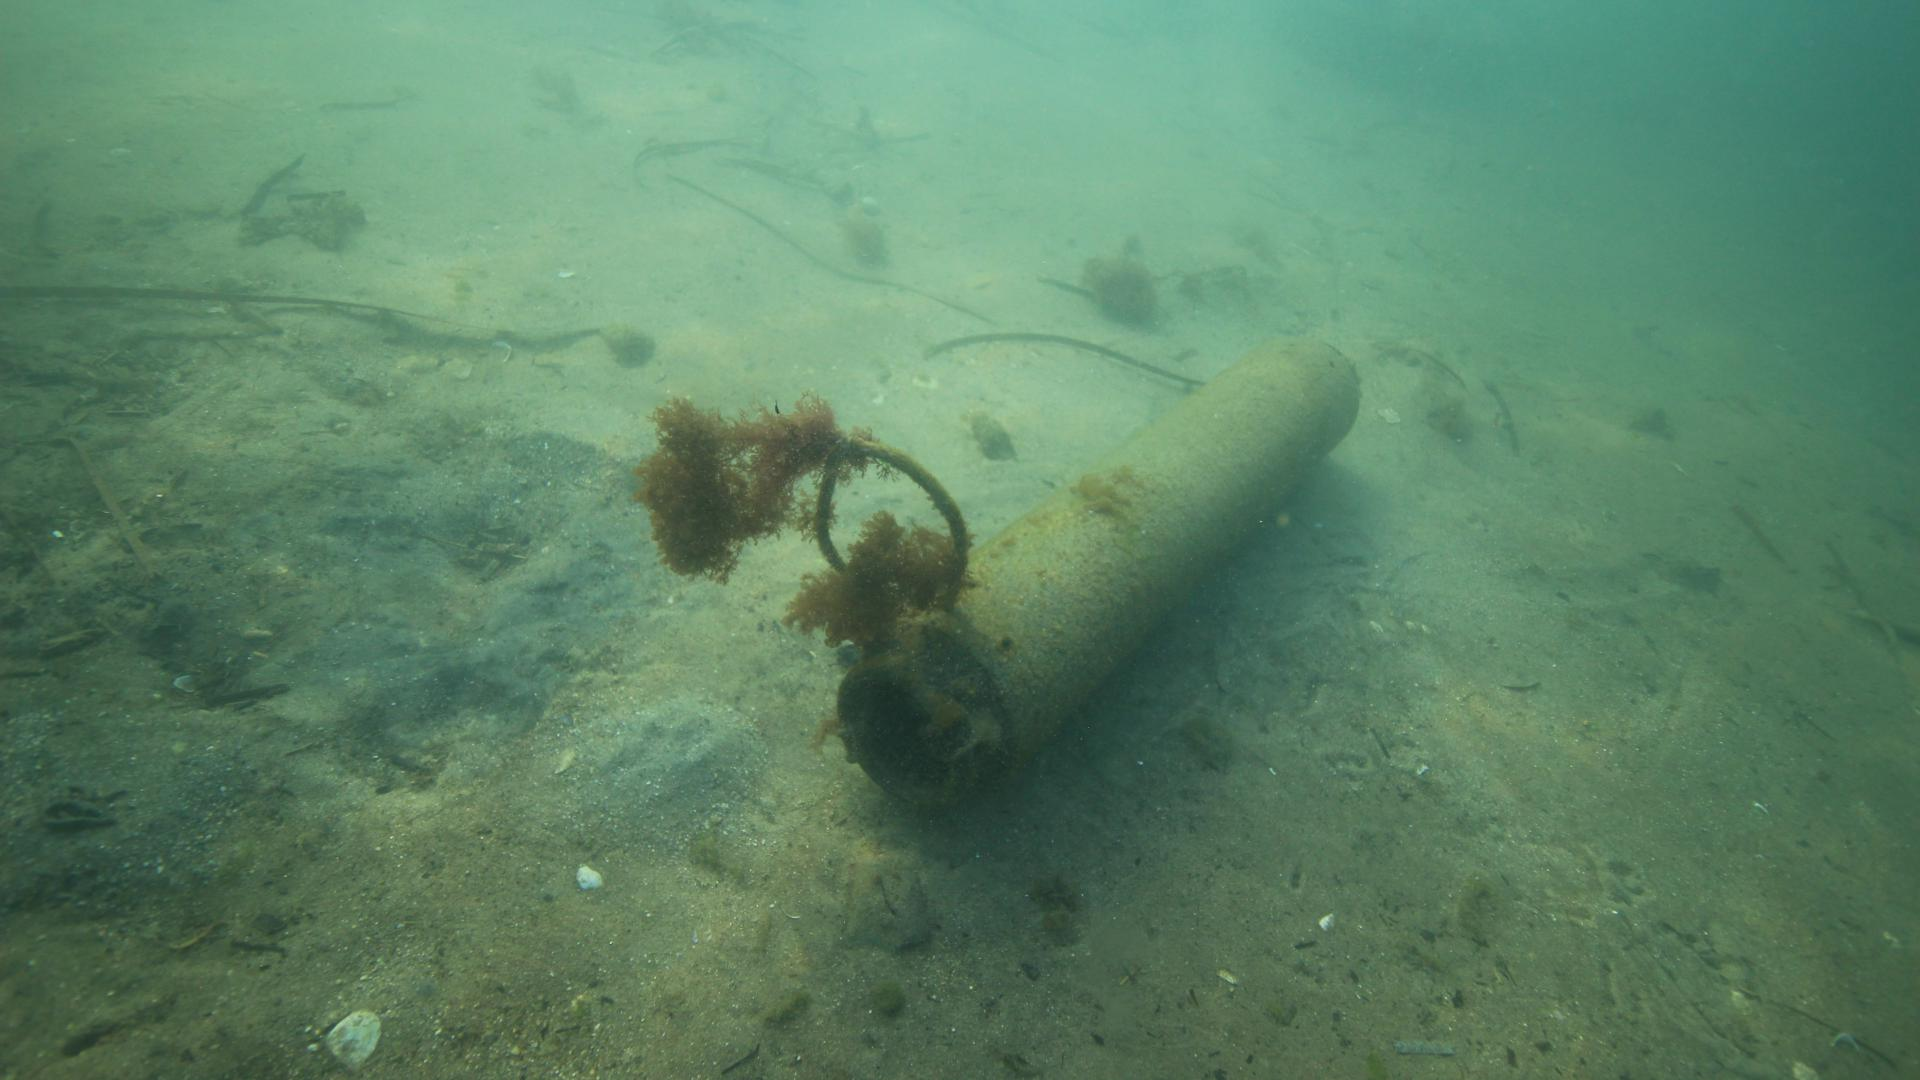eel fish trap: (835, 334, 1369, 820)
rope: (810, 436, 975, 612)
